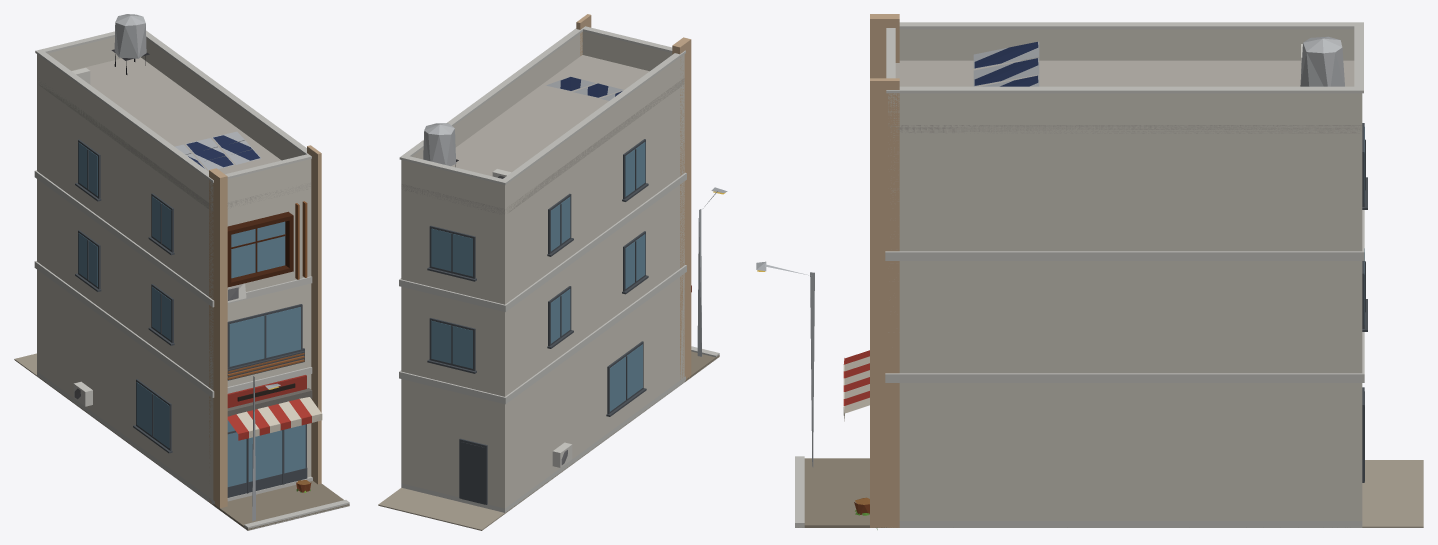
File: bay1_left.glb
The picture shows the model from 3 angles, left to right: view 1: azimuth 30°, elevation 25°; view 2: azimuth 150°, elevation 25°; view 3: azimuth 270°, elevation 25°; orthographic projection. The views are drawn at different scales.
Parts seen in each view (by area): view 1: body; view 2: body; view 3: body.
Boxes of the visible parts, box(x1,y1,x2,y2) form: body: box(14, 14, 349, 530); body: box(378, 14, 727, 530); body: box(756, 14, 1423, 529).
Bounding box in the file's own units: 4.42 × 13.6 × 16.88.
